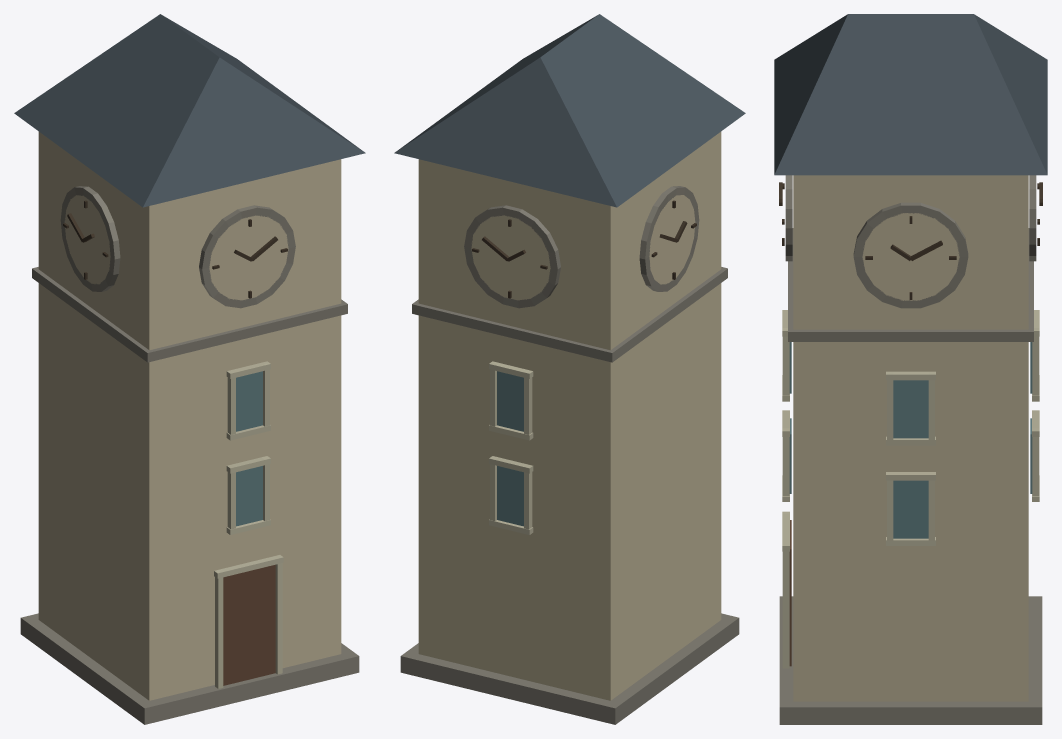
The model's file is Building_Landmark_ClockTower_001_LOD1.glb.
The picture shows the model from 3 angles, left to right: view 1: azimuth 30°, elevation 25°; view 2: azimuth 150°, elevation 25°; view 3: azimuth 270°, elevation 25°; orthographic projection. The views are drawn at different scales.
Parts seen in each view (by area): view 1: Building_Landmark_ClockTower_001_LOD1; view 2: Building_Landmark_ClockTower_001_LOD1; view 3: Building_Landmark_ClockTower_001_LOD1.
Boxes of the visible parts, x1,y1,x2,y2 form: Building_Landmark_ClockTower_001_LOD1: [14, 14, 365, 724]; Building_Landmark_ClockTower_001_LOD1: [394, 14, 745, 724]; Building_Landmark_ClockTower_001_LOD1: [774, 14, 1047, 724].
Size of the model in its own units: 3.95 by 10.45 by 3.95.
